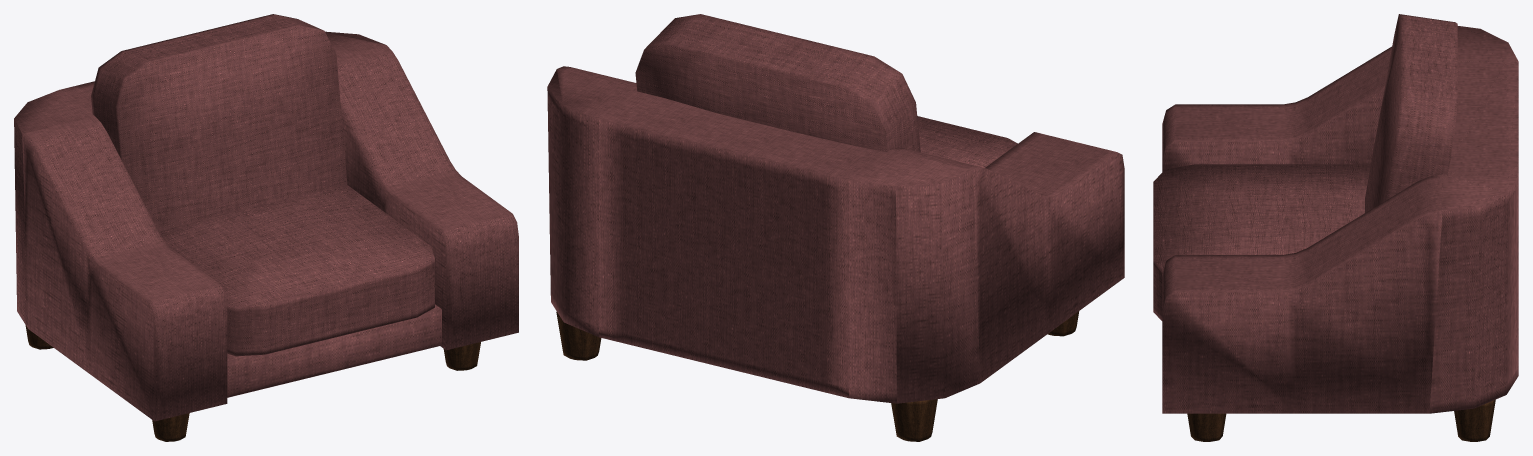
File: armchair.fbx
3 renders of one model, left to right at view 1: azimuth 30°, elevation 25°; view 2: azimuth 150°, elevation 25°; view 3: azimuth 270°, elevation 25°, orthographic. The views are drawn at different scales.
Parts seen in each view (by area): view 1: Base.002, Cushion.003, Cushion.001, Base.001, Leg.001, Leg.002; view 2: Base.002, Cushion.003, Cushion.001, Leg.003, Leg.004; view 3: Base.002, Cushion.001, Cushion.003, Leg.004, Leg.002.
Boxes of the visible parts, x1,y1,x2,y2 form: Base.002: (14,31,518,421); Cushion.003: (91,14,347,231); Cushion.001: (159,185,434,356); Base.001: (227,304,441,397); Leg.001: (152,413,189,441); Leg.002: (443,342,480,370); Base.002: (547,66,1124,403); Cushion.003: (635,14,920,152); Cushion.001: (917,116,1017,167); Leg.003: (891,399,937,441); Leg.004: (556,311,601,360); Base.002: (1162,26,1518,413); Cushion.001: (1153,164,1370,320); Cushion.003: (1365,14,1457,212); Leg.004: (1454,399,1495,441); Leg.002: (1187,413,1226,441).
Size of the model in its own units: 50 by 37.82 by 41.
